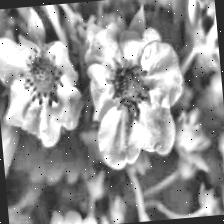Blossom Blight: (15, 42, 70, 110), (104, 55, 155, 122)
